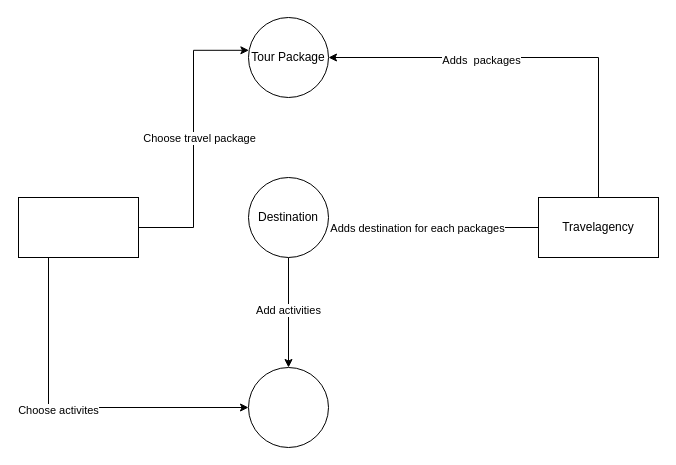
The diagram is 676 pixels wide and 465 high, and some of its shapes have lost their labels. The centre of each missing label's shape, as x and y in pixels:
"Activities" belongs at pixel 288 407.
"Passenger" belongs at pixel 78 227.
